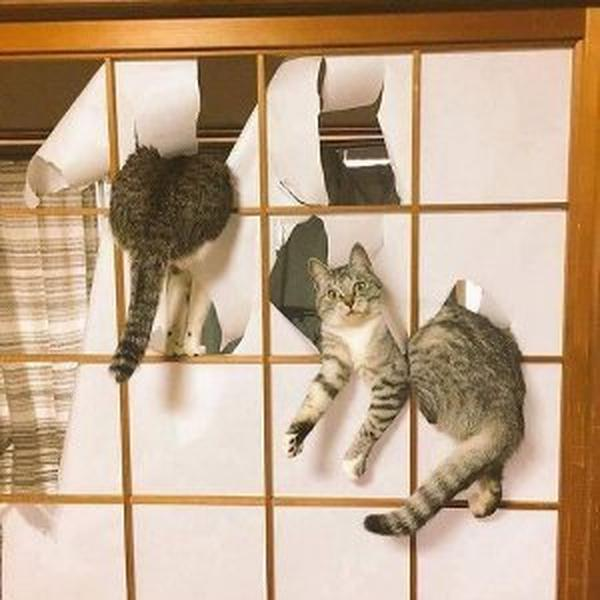michi: (282, 241, 544, 542)
